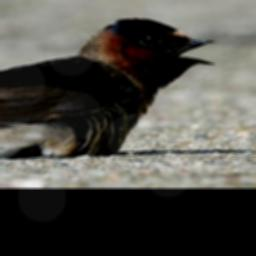Swallow: (0, 16, 219, 161)
